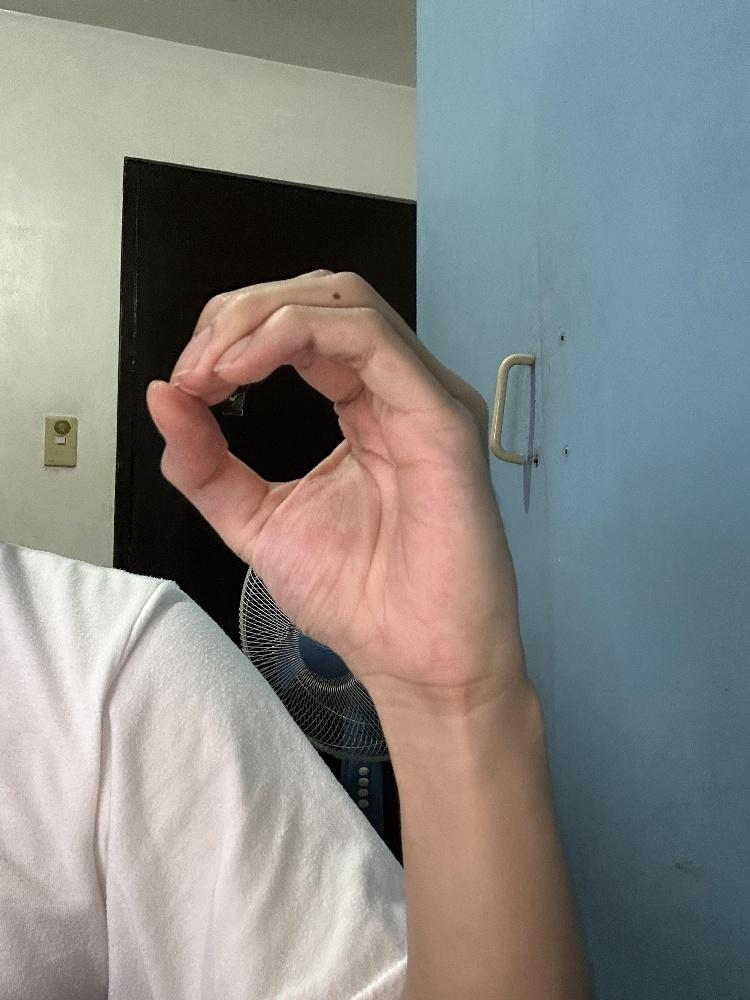o: (140, 263, 522, 693)
